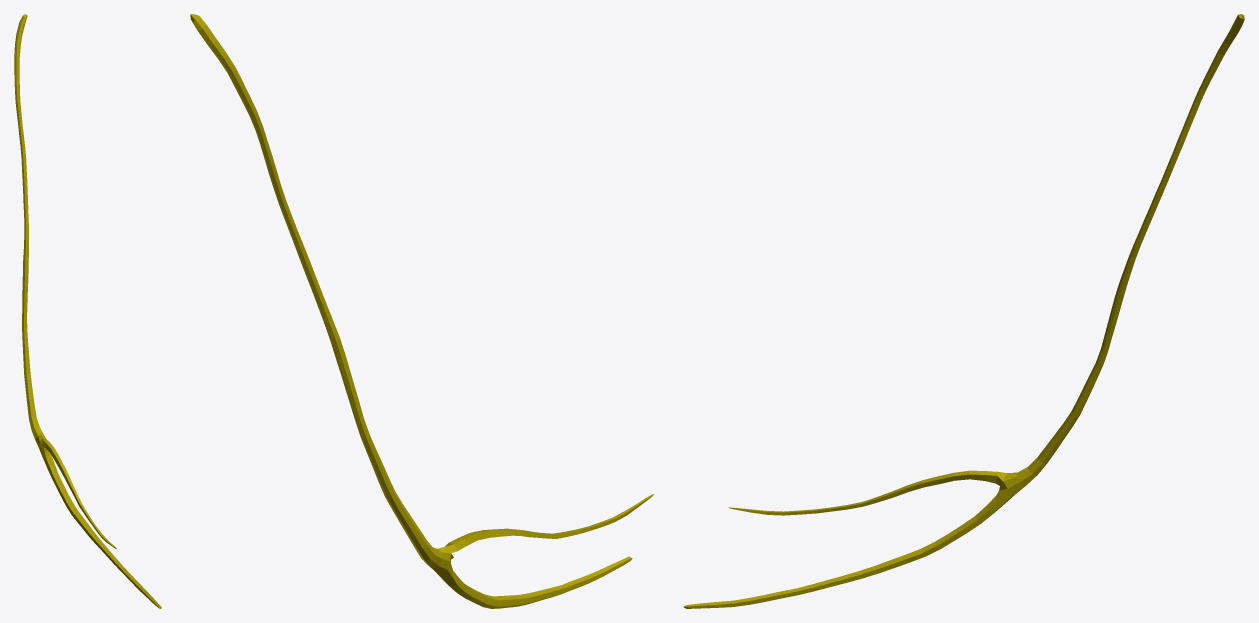
Rendered from Glossopharyngeal_nerve_R.glb.
3 renders of one model, left to right at view 1: azimuth 30°, elevation 25°; view 2: azimuth 150°, elevation 25°; view 3: azimuth 270°, elevation 25°, orthographic. The views are drawn at different scales.
Visible parts, largest first — view 1: Glossopharyngeal_nerve_R.001; view 2: Glossopharyngeal_nerve_R.001; view 3: Glossopharyngeal_nerve_R.001.
Boxes of the visible parts, <box> form: Glossopharyngeal_nerve_R.001: <box>14,14,161,608</box>; Glossopharyngeal_nerve_R.001: <box>190,14,654,608</box>; Glossopharyngeal_nerve_R.001: <box>683,14,1244,608</box>.
Bounding box in the file's own units: 0.047 × 0.2246 × 0.1801.
Materials: 1 (1 with a texture image).
